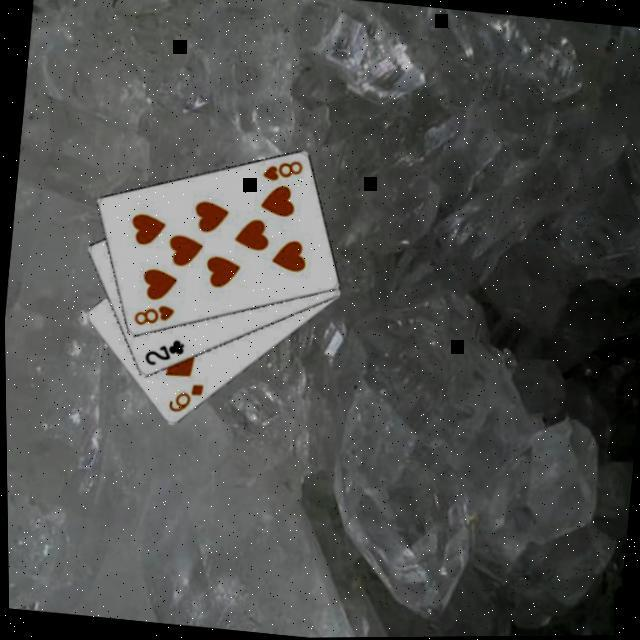2C: (136, 335, 183, 373)
6D: (159, 379, 203, 419)
8H: (127, 301, 175, 334), (255, 155, 303, 188)
